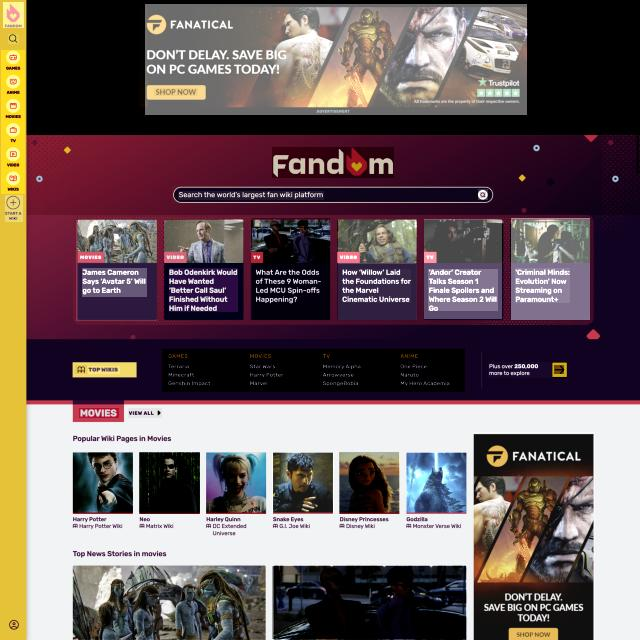CheckBox: (488, 362, 567, 378), (72, 362, 137, 378), (147, 85, 205, 99), (5, 195, 23, 222), (128, 408, 162, 418), (552, 362, 567, 378), (478, 189, 488, 200)
CheckedTextView: (172, 186, 494, 203)
ImageView: (145, 4, 527, 115), (473, 432, 595, 640)
Input field: (169, 268, 238, 312), (428, 269, 498, 311), (342, 269, 411, 303), (255, 269, 322, 303), (515, 268, 570, 303), (82, 268, 147, 297)
QR code: (162, 349, 465, 392)
RadioButton: (77, 252, 104, 263), (337, 252, 360, 263), (164, 252, 186, 263), (250, 252, 264, 263), (424, 252, 437, 263)
Spinner: (76, 220, 157, 321), (163, 219, 243, 320), (511, 218, 590, 320), (338, 219, 417, 320), (252, 218, 330, 320), (424, 219, 502, 319)
bag: (27, 136, 640, 215)
breadcrumbs: (79, 408, 119, 418)
carousel: (8, 34, 19, 44), (75, 365, 87, 374), (554, 365, 564, 374), (480, 192, 486, 198)
copy: (73, 565, 266, 639), (273, 566, 467, 639), (139, 452, 200, 514), (272, 452, 334, 513), (73, 452, 133, 514), (206, 452, 266, 514), (339, 452, 399, 514), (406, 452, 466, 513), (510, 219, 590, 263), (338, 220, 416, 264), (424, 220, 503, 263), (251, 220, 330, 263), (164, 220, 243, 263), (78, 220, 156, 262)
data feed: (154, 88, 198, 96), (88, 366, 120, 374)
date picker: (272, 147, 394, 178), (3, 2, 24, 28)
decoration: (1, 50, 25, 194)
footer: (178, 191, 324, 200)
